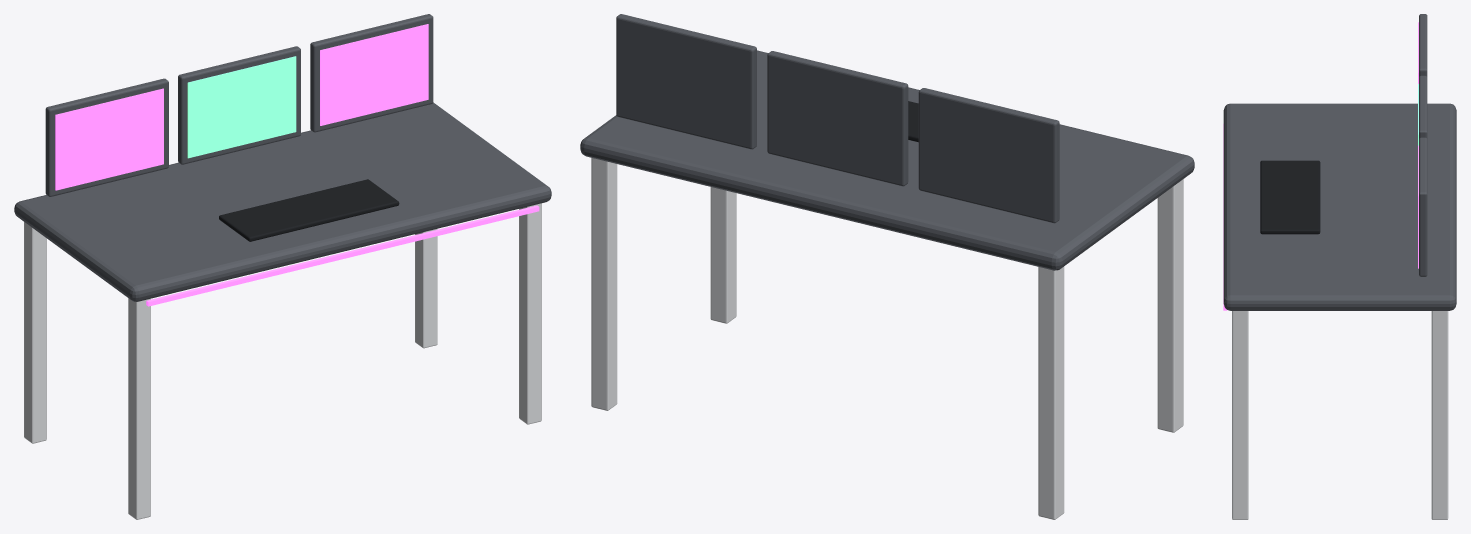
The model's file is desk_corner_tech.glb.
The picture shows the model from 3 angles, left to right: view 1: azimuth 30°, elevation 25°; view 2: azimuth 150°, elevation 25°; view 3: azimuth 270°, elevation 25°; orthographic projection. The views are drawn at different scales.
Visible parts, largest first — view 1: GD_desk_corner_tech__m0, GD_desk_corner_tech__m1, GD_desk_corner_tech__m2, GD_desk_corner_tech__m5, GD_desk_corner_tech__m3, GD_desk_corner_tech__m4; view 2: GD_desk_corner_tech__m0, GD_desk_corner_tech__m1; view 3: GD_desk_corner_tech__m0, GD_desk_corner_tech__m1, GD_desk_corner_tech__m3.
Boxes of the visible parts, x1,y1,x2,y2 form: GD_desk_corner_tech__m0: (14, 14, 551, 301); GD_desk_corner_tech__m1: (24, 203, 541, 519); GD_desk_corner_tech__m2: (55, 24, 428, 190); GD_desk_corner_tech__m5: (187, 56, 296, 158); GD_desk_corner_tech__m3: (219, 179, 399, 241); GD_desk_corner_tech__m4: (146, 205, 539, 306); GD_desk_corner_tech__m0: (580, 14, 1194, 270); GD_desk_corner_tech__m1: (591, 158, 1183, 519); GD_desk_corner_tech__m0: (1223, 14, 1456, 310); GD_desk_corner_tech__m1: (1232, 311, 1448, 519); GD_desk_corner_tech__m3: (1260, 160, 1320, 234).
Bounding box in the file's own units: 1.4 × 1.07 × 0.701.
